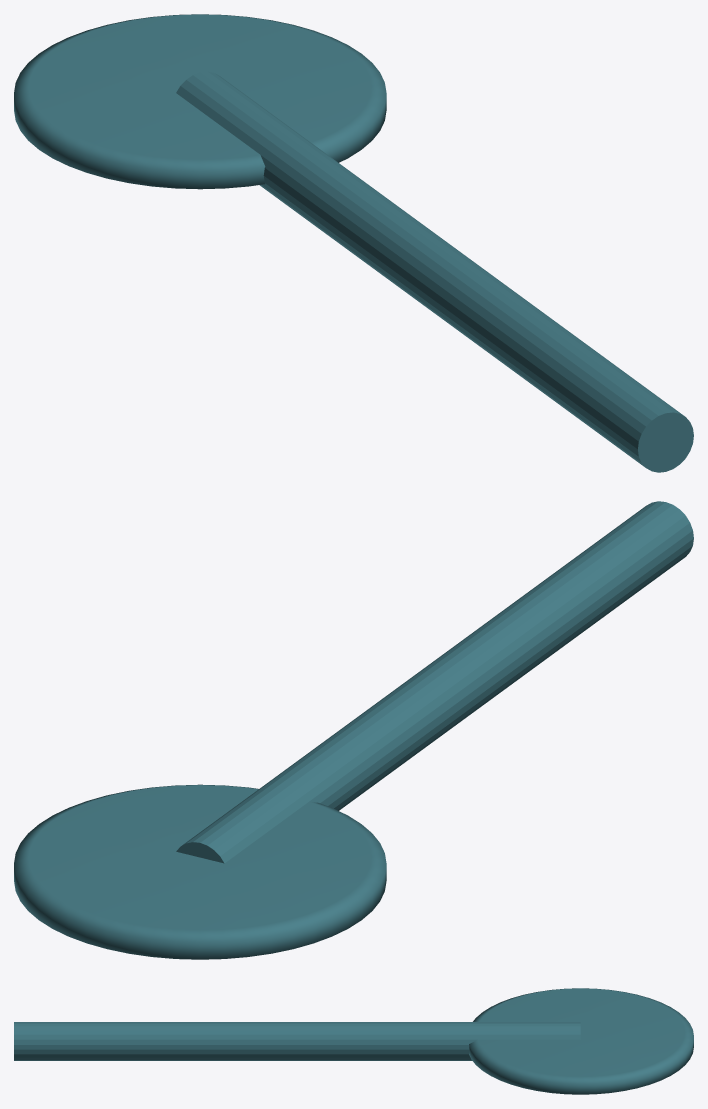
Rendered from optician-and-optical-lens-workshop-optician-and-optica-3bfa99b7__31678.glb.
3 views of the same model, one above another, from view 1: azimuth 30°, elevation 25°; view 2: azimuth 150°, elevation 25°; view 3: azimuth 270°, elevation 25° (orthographic). The views are drawn at different scales.
Visible parts, largest first — view 1: optician-and-optical-lens-workshop-handheld-occluder; view 2: optician-and-optical-lens-workshop-handheld-occluder; view 3: optician-and-optical-lens-workshop-handheld-occluder.
Boxes of the visible parts, box(x1,y1,x2,y2) form: optician-and-optical-lens-workshop-handheld-occluder: box(14, 14, 693, 472); optician-and-optical-lens-workshop-handheld-occluder: box(14, 501, 693, 959); optician-and-optical-lens-workshop-handheld-occluder: box(14, 988, 693, 1094).
Bounding box in the file's own units: 0.046 × 0.008 × 0.138.
